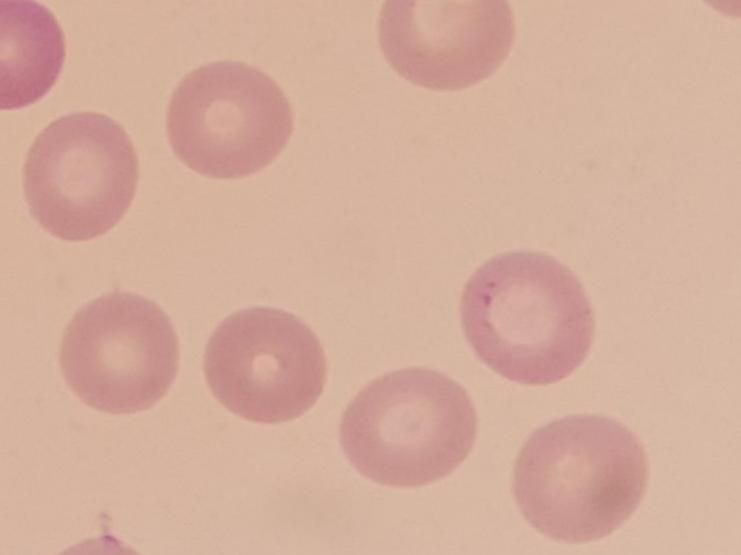Uninfected: (459, 253, 592, 391), (510, 418, 650, 546), (336, 369, 478, 484), (171, 60, 293, 183), (60, 293, 178, 420), (26, 110, 137, 244), (203, 310, 326, 426), (374, 0, 512, 98)
